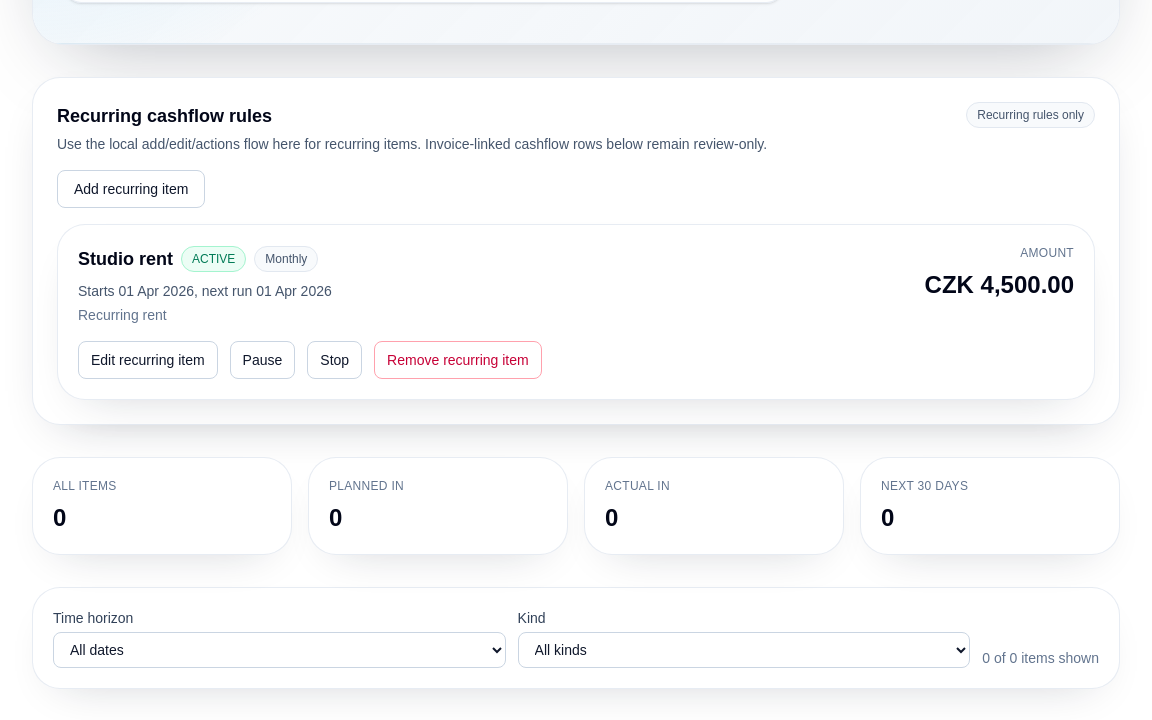
Scenario: cashflow workspace v1 › runs pause resume and stop actions for recurring rules
The width and height of the screenshot is (1152, 720).
(page scrolled)
Check: the heading "Studio rent" is shown, box [78,245,173,273]
Click the button "Pause" at (262, 360), box [230,341,295,379]
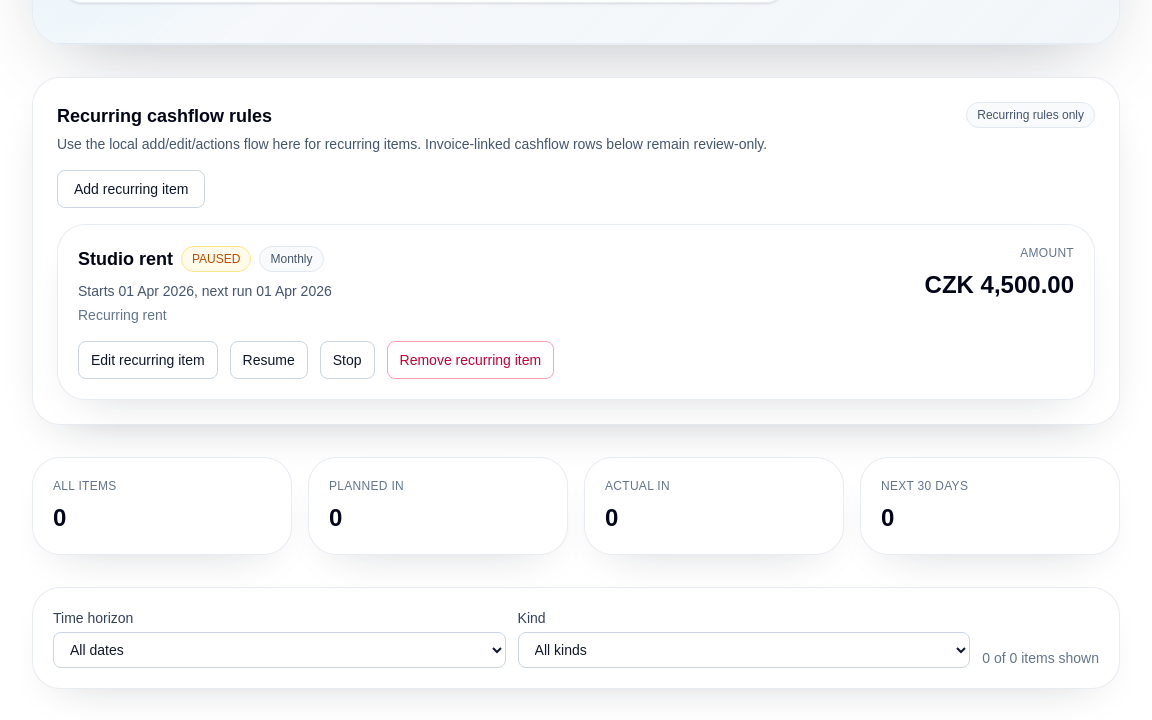
Click the button "Resume" at (269, 360), box [230,341,308,379]
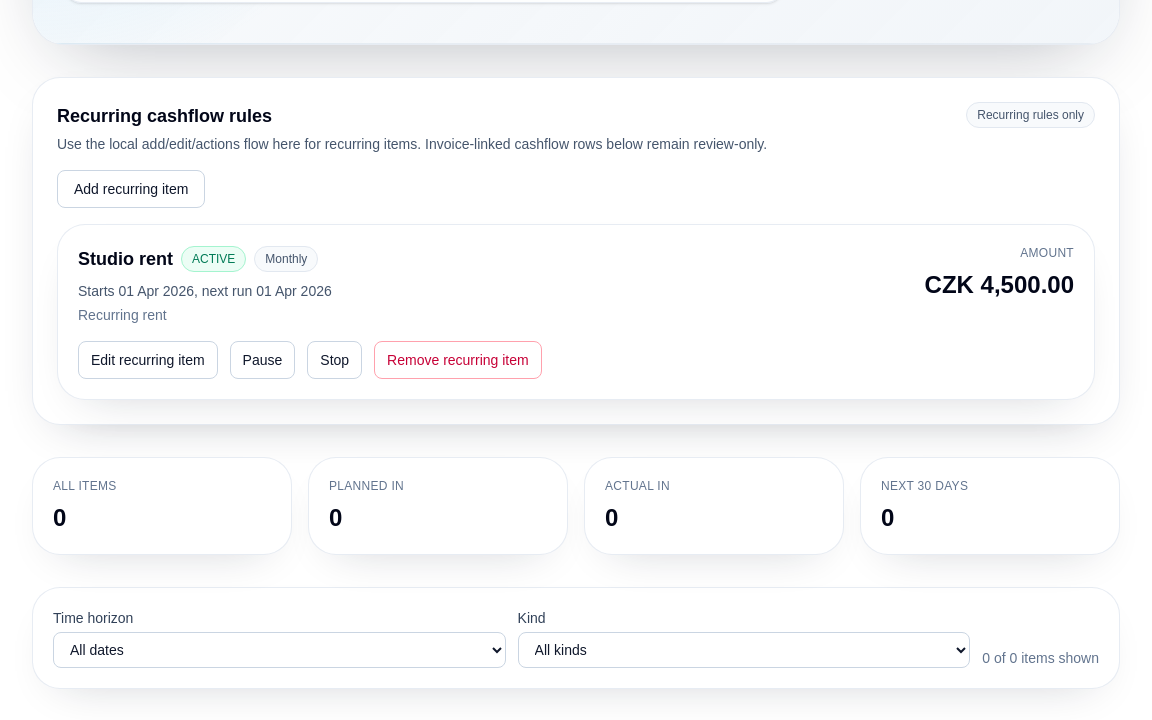
Click the button "Stop" at (335, 360), box [307,341,362,379]
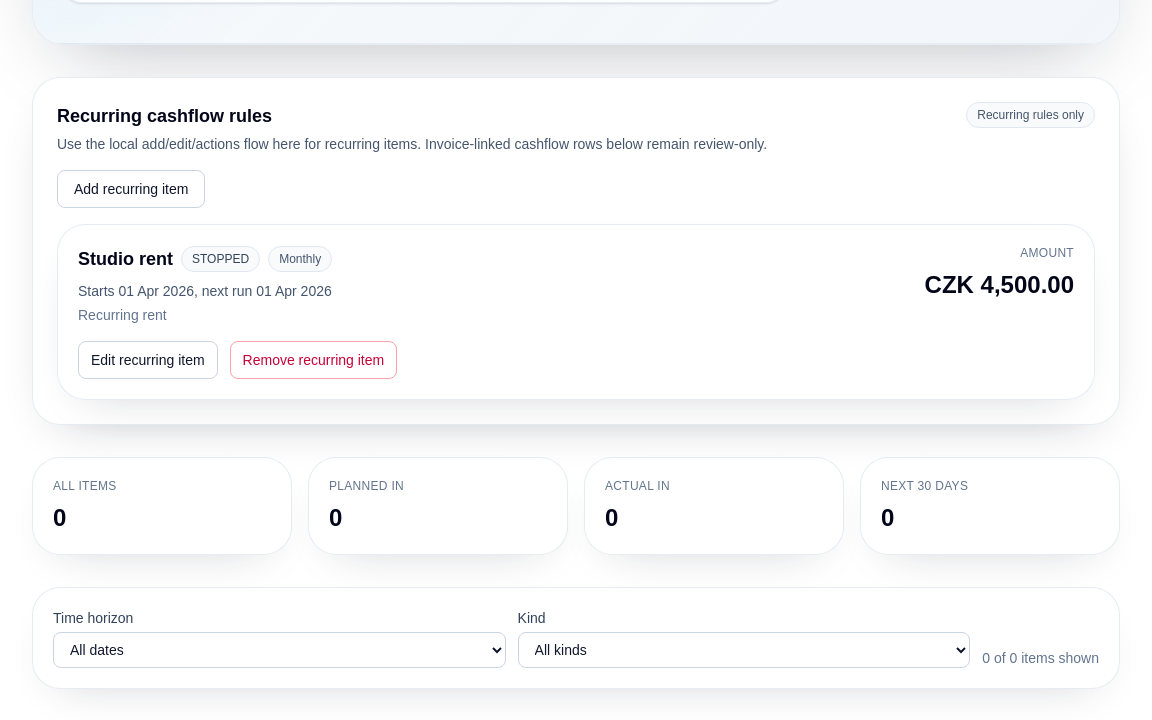
Check: the text "STOPPED" is shown, box [181,246,260,272]
